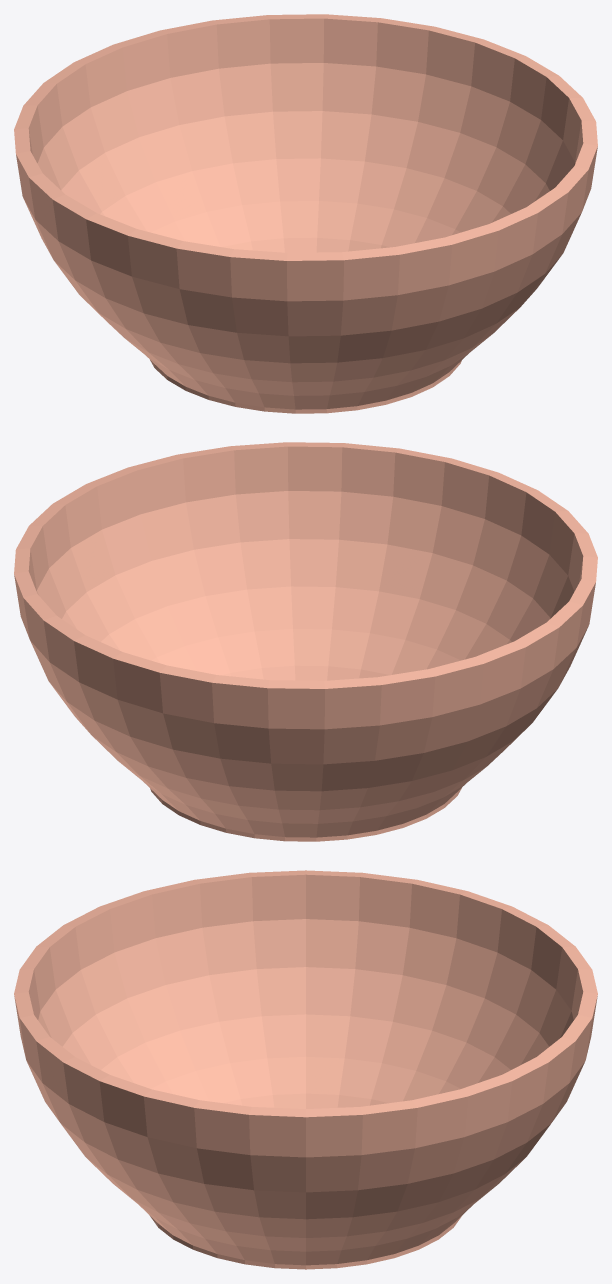
The model's file is bowl.fbx.
3 renders of one model, top to bottom at view 1: azimuth 30°, elevation 25°; view 2: azimuth 150°, elevation 25°; view 3: azimuth 270°, elevation 25°, orthographic.
Visible parts, largest first — view 1: Cylinder; view 2: Cylinder; view 3: Cylinder.
Part boxes in pixels (x1,y1,x2,y2): Cylinder: (14, 14, 597, 413); Cylinder: (14, 442, 597, 841); Cylinder: (14, 870, 597, 1269).
Bounding box in the file's own units: 275 × 109 × 275.
